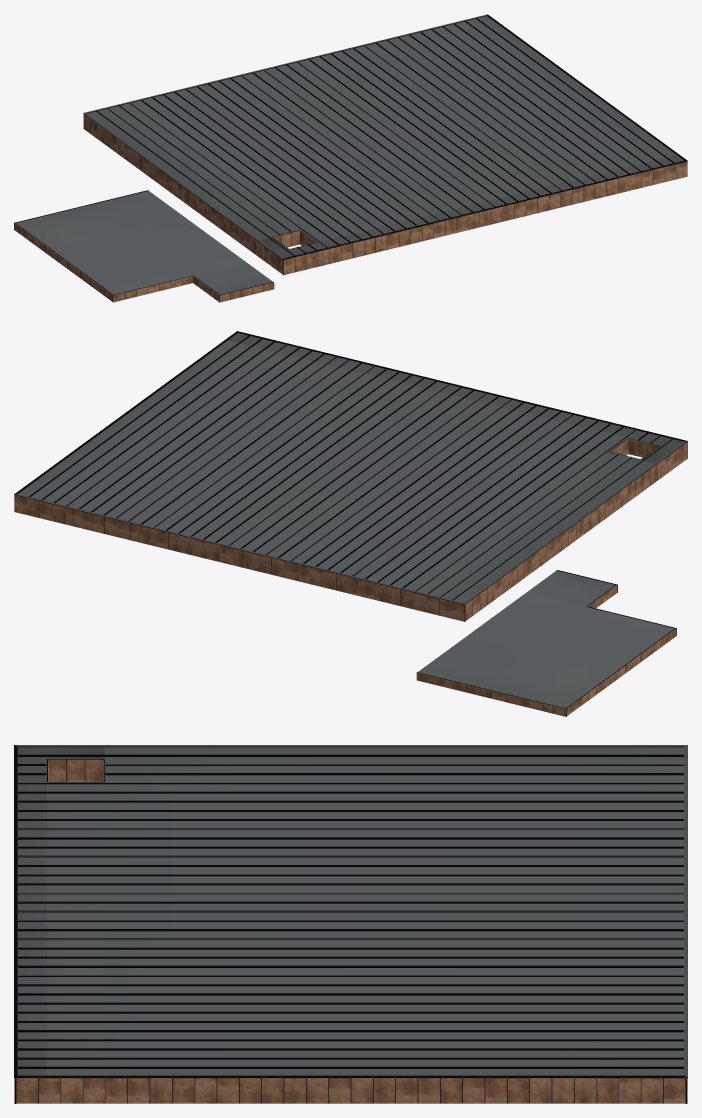
Rendered from suite_roof.glb.
The picture shows the model from 3 angles, top to bottom: view 1: azimuth 30°, elevation 25°; view 2: azimuth 150°, elevation 25°; view 3: azimuth 270°, elevation 25°; orthographic projection. The views are drawn at different scales.
Visible parts, largest first — view 1: suite_roof; view 2: suite_roof; view 3: suite_roof.
Boxes of the visible parts, x1=… form: suite_roof: x1=14, y1=14, x2=687, y2=302; suite_roof: x1=14, y1=331, x2=687, y2=716; suite_roof: x1=14, y1=745, x2=687, y2=1103.
Bounding box in the file's own units: 26.17 × 4.61 × 18.73.
1 material, 1 textured.
